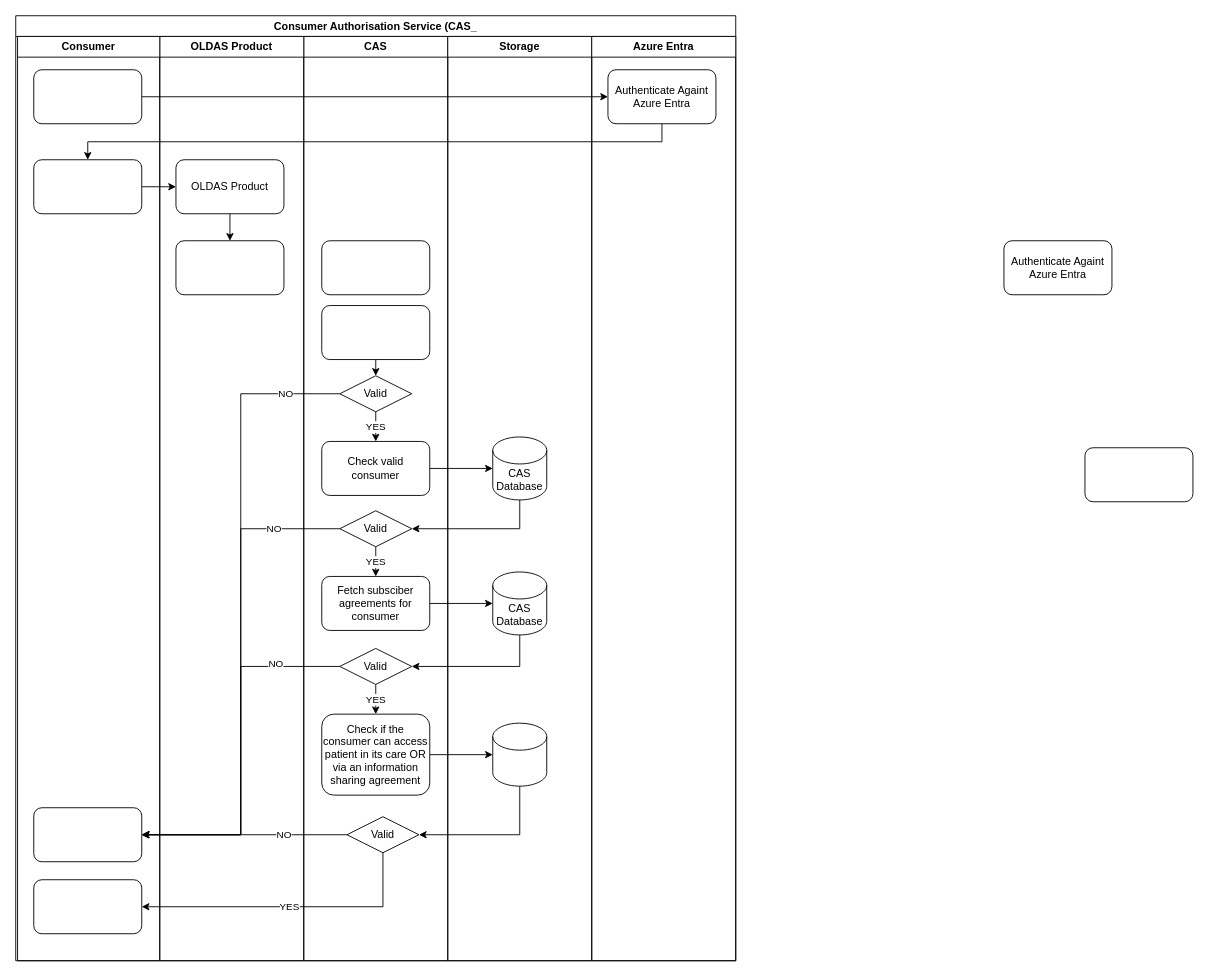
This 1209x977 diagram has some shape labels left out. Each missing label, with the centre of its shape:
"Consumer Application" goes at point 87,96.
"Product requires patient authorization check" goes at point 229,267.
"Receives costomerId and NHS Number" goes at point 375,267.
"Return No Access Response" goes at point 87,834.
"Return Valid Access Response" goes at point 87,906.
"Returned Access Token if valid (otherwise unauthenticated)" goes at point 87,186.
"Snowflake" goes at point 519,754.
"Validate customerId and NHS Number" goes at point 375,332.
